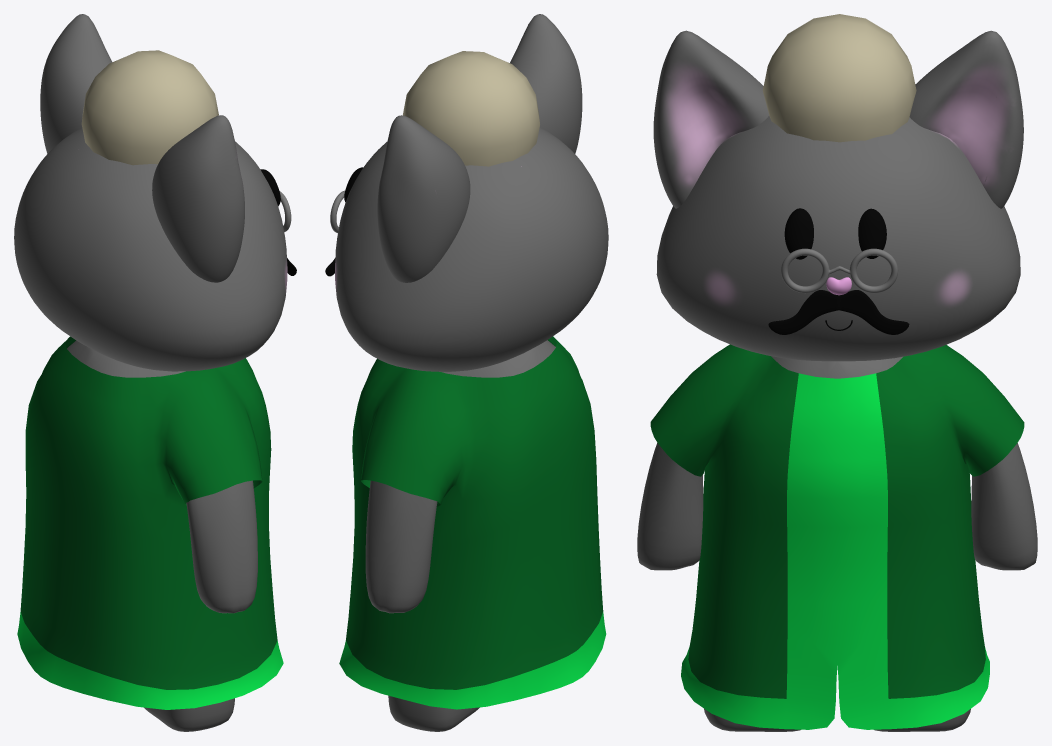
Rendered from curro1.glb.
The picture shows the model from 3 angles, left to right: view 1: azimuth 30°, elevation 25°; view 2: azimuth 150°, elevation 25°; view 3: azimuth 270°, elevation 25°; orthographic projection. The views are drawn at different scales.
Visible parts, largest first — view 1: Currito; view 2: Currito; view 3: Currito.
Boxes of the visible parts, x1=… form: Currito: x1=14, y1=14, x2=296, y2=731; Currito: x1=325, y1=14, x2=608, y2=731; Currito: x1=637, y1=14, x2=1037, y2=731.
Size of the model in its own units: 1.96 by 5.07 by 2.64.
Materials: 8 (1 with a texture image).
